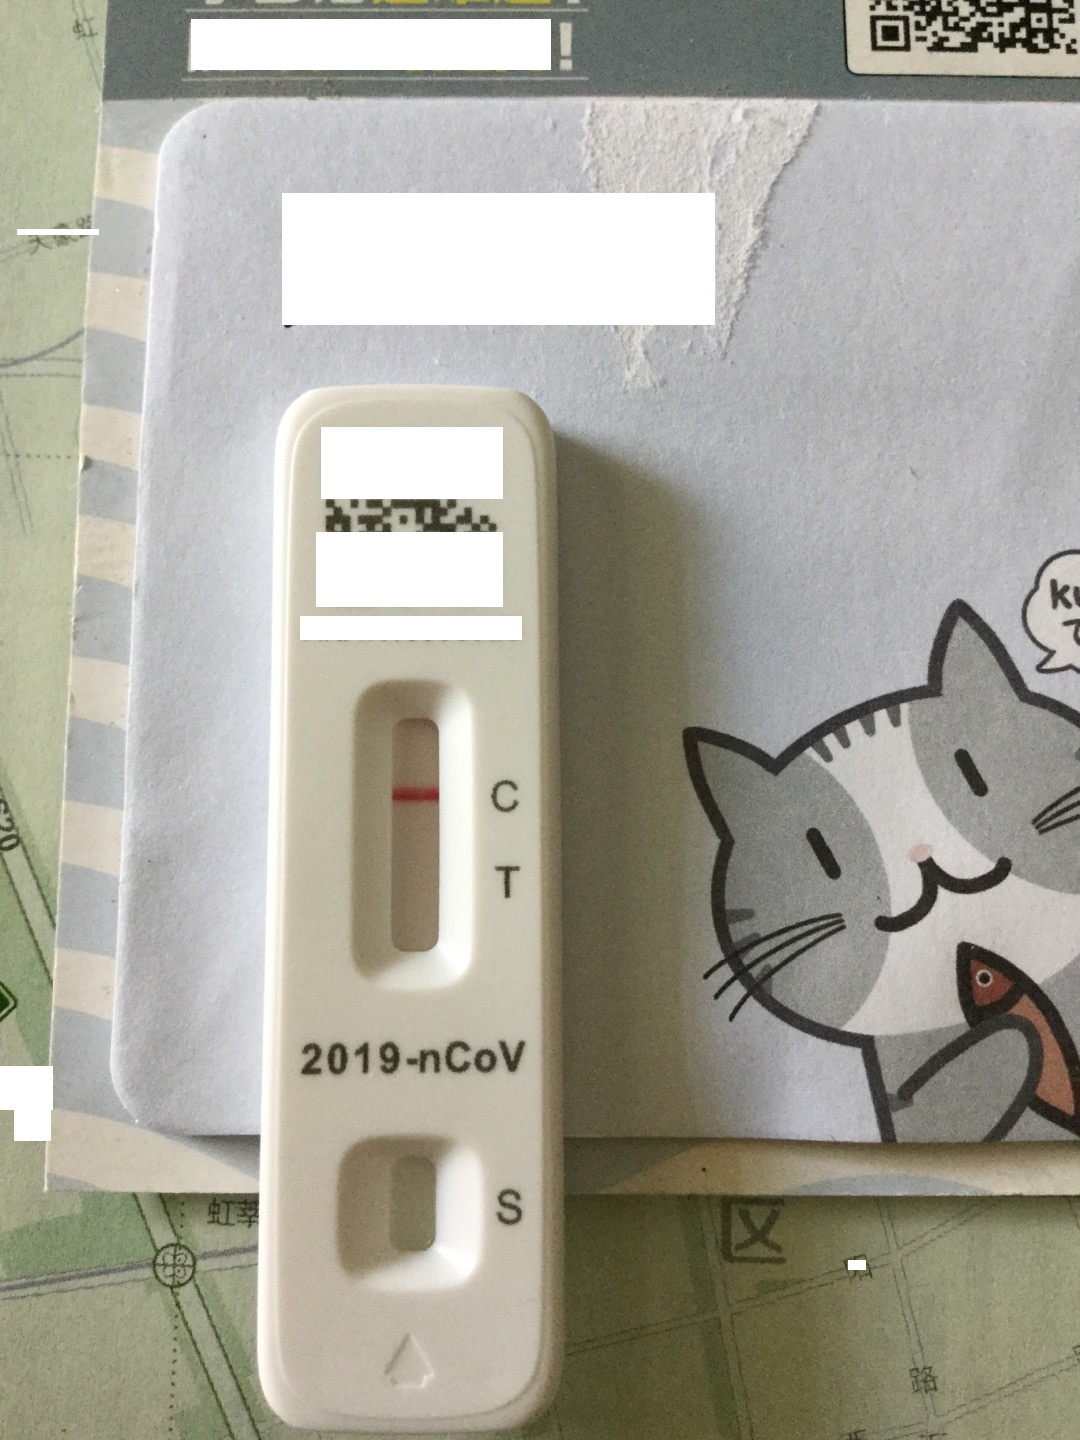negative: (349, 675, 464, 1003)
